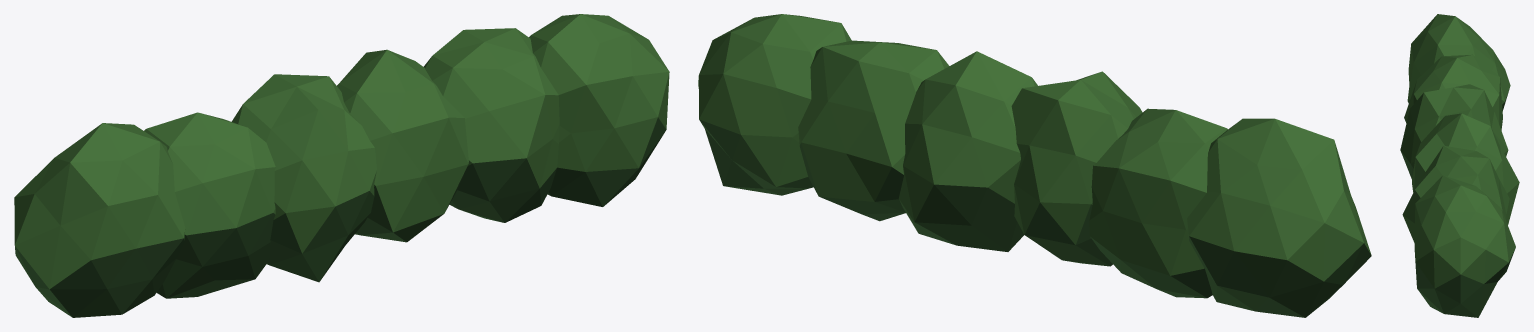
The model's file is SM_Street_Hedge_Azalea_200_01.gltf.
3 views of the same model, side by side, from view 1: azimuth 30°, elevation 25°; view 2: azimuth 150°, elevation 25°; view 3: azimuth 270°, elevation 25° (orthographic). The views are drawn at different scales.
Visible parts, largest first — view 1: SM_Street_Hedge_Azalea_200_01; view 2: SM_Street_Hedge_Azalea_200_01; view 3: SM_Street_Hedge_Azalea_200_01.
Boxes of the visible parts, <box> form: SM_Street_Hedge_Azalea_200_01: <box>14,14,669,317</box>; SM_Street_Hedge_Azalea_200_01: <box>698,14,1371,317</box>; SM_Street_Hedge_Azalea_200_01: <box>1400,14,1519,317</box>.
Size of the model in its own units: 1.97 by 0.5739 by 0.4557.
Materials: 1 (1 with a texture image).
